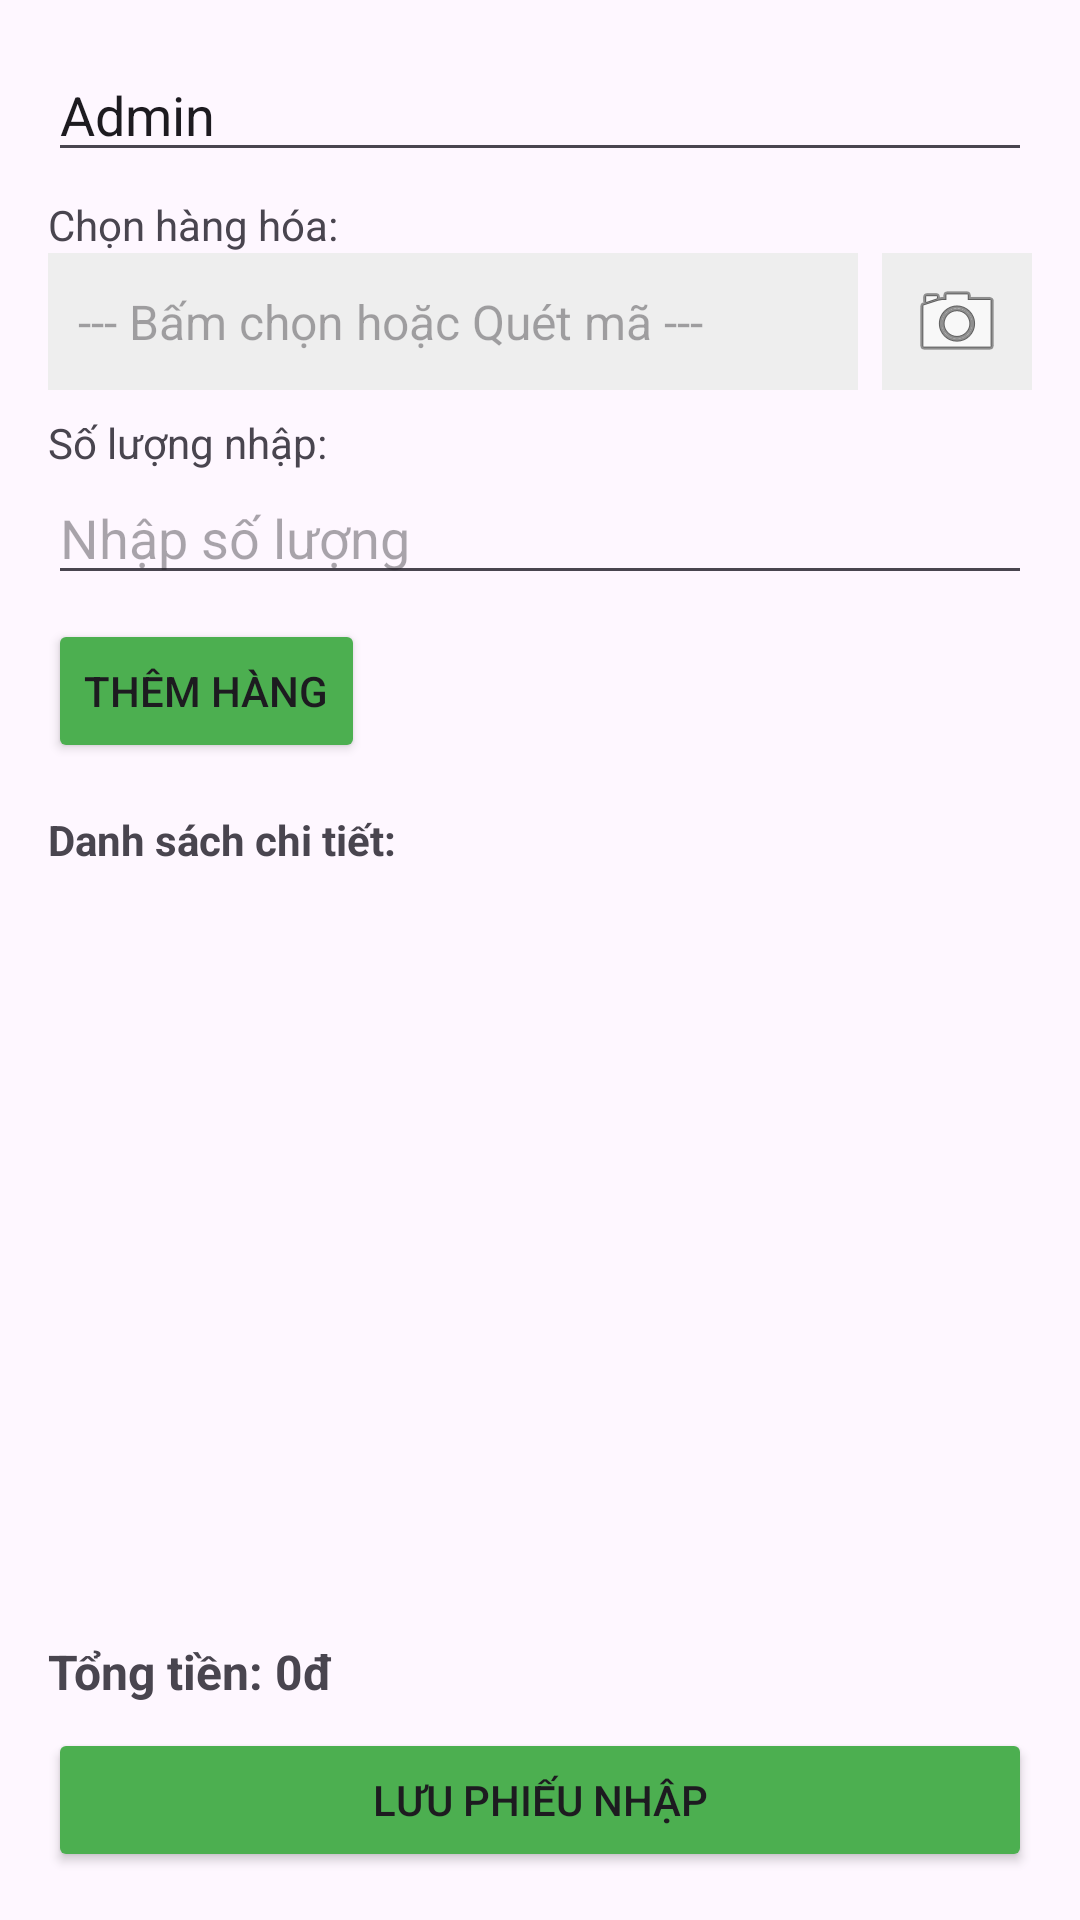

Point at icon controls on the screen. Image size 1080w x 1920h, points as point (x, y).
camera: point (957, 321)
